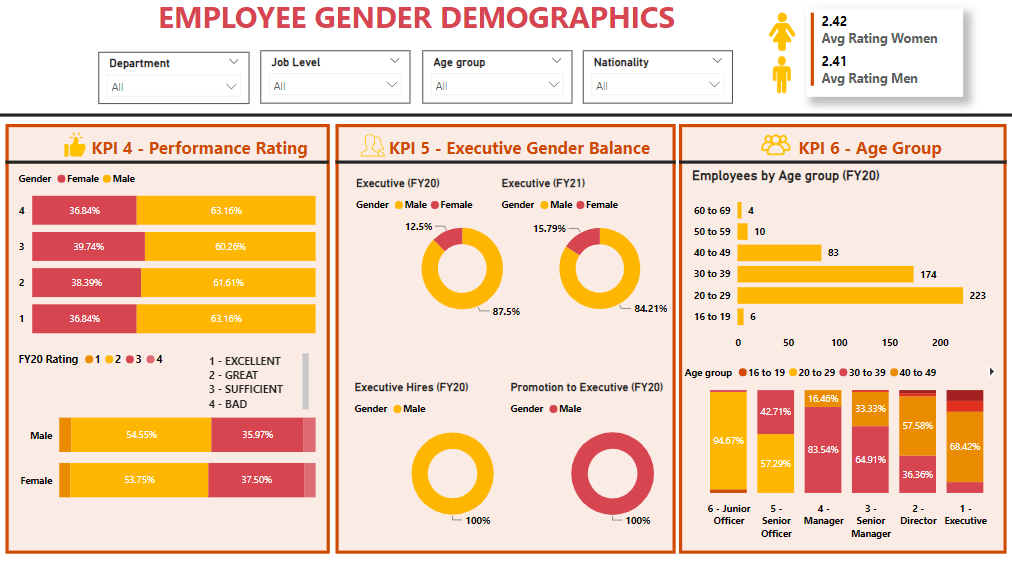

Layout of this report page (visuals, bound fields, positions):
{"tool":"powerbi","page":{"name":"Page 2","canvas":[1280,720],"ordinal":1},"visuals":[{"type":"shape","box":[858.6,165.7,412.9,541.4],"z":0},{"type":"shape","box":[10,167.1,408.6,541.4],"z":1000},{"type":"shape","box":[424.3,165.7,428.6,541.4],"z":2000},{"type":"textbox","box":[147.4,0,759.7,73.7],"z":3000},{"type":"slicer","fields":{"Values":["Pharma Group AG.Last Department in FY20"]},"box":[125.8,75.7,189.9,65.2],"z":5000},{"type":"slicer","fields":{"Values":["Pharma Group AG.Broad region group: nationality 1"]},"box":[737.7,74.5,188.4,66.7],"z":6000},{"type":"slicer","fields":{"Values":["Pharma Group AG.Age group"]},"box":[534.5,74.2,188.4,66.7],"z":7000},{"type":"slicer","fields":{"Values":["Pharma Group AG.Job Level after FY20 promotions"]},"box":[330.1,74.2,188.4,66.7],"z":8000},{"type":"shape","box":[10.1,208.7,407.2,13],"z":9000},{"type":"shape","box":[424.3,208.6,428.6,12.9],"z":10000},{"type":"shape","box":[858.6,208.6,412.9,12.9],"z":11000},{"type":"image","box":[955.7,75.7,62.9,57.1],"z":12000},{"type":"image","box":[955.7,21.4,62.9,58.6],"z":13000},{"type":"textbox","box":[104.3,175.4,300,40.6],"z":14000},{"type":"textbox","box":[487,175.4,352.2,40.6],"z":15000},{"type":"textbox","box":[1002.9,175.7,212.9,40],"z":16000},{"type":"donutChart","title":"Executive (FY21)","fields":{"Category":["Pharma Group AG.Gender"],"Y":["CountNonNull(Pharma Group AG.Employee ID)"],"Series":["Pharma Group AG.Job Level after FY21 promotions"]},"box":[628.6,232.9,257.1,187.1],"z":17000},{"type":"donutChart","title":"Executive (FY20)","fields":{"Category":["Pharma Group AG.Gender"],"Y":["CountNonNull(Pharma Group AG.Employee ID)"],"Series":["Pharma Group AG.Job Level after FY20 promotions"]},"box":[445.7,232.9,277.1,187.1],"z":18000},{"type":"donutChart","title":"Executive Hires (FY20)","fields":{"Category":["Pharma Group AG.Gender","Pharma Group AG.New hire FY20?"],"Series":["Pharma Group AG.Job Level after FY20 promotions"],"Y":["CountNonNull(Pharma Group AG.Employee ID)"]},"box":[443.5,489.9,256.5,189.9],"z":19000},{"type":"donutChart","title":"Promotion to Executive (FY20)","fields":{"Category":["Pharma Group AG.Gender","Pharma Group AG.New hire FY20?","Pharma Group AG.Promotion in FY20?"],"Series":["Pharma Group AG.Job Level after FY20 promotions"],"Y":["CountNonNull(Pharma Group AG.Employee ID)"]},"box":[640.6,489.9,266.7,189.9],"z":20000},{"type":"clusteredBarChart","title":"Employees by Age group (FY20)","fields":{"Category":["Pharma Group AG.Age group"],"Y":["CountNonNull(Pharma Group AG.Employee ID)"]},"box":[868.6,221.4,391.4,238.6],"z":21000},{"type":"hundredPercentStackedColumnChart","fields":{"Series":["Pharma Group AG.Age group"],"Category":["Pharma Group AG.Job Level after FY21 promotions"],"Y":["CountNonNull(Pharma Group AG.Employee ID)"]},"box":[860,458.6,411.4,238.6],"z":22000},{"type":"hundredPercentStackedBarChart","fields":{"Series":["Pharma Group AG.Gender"],"Category":["Pharma Group AG.FY20 Performance Rating"],"Y":["CountNonNull(Pharma Group AG.Employee ID)"]},"box":[20,215.7,384.3,227.1],"z":23000},{"type":"shape","box":[0,144.3,1280,22.9],"z":24000},{"type":"hundredPercentStackedBarChart","fields":{"Category":["Pharma Group AG.Gender"],"Y":["CountNonNull(Pharma Group AG.Employee ID)"],"Series":["Pharma Group AG.FY20 Performance Rating"]},"box":[21.4,442.9,384.3,252.9],"z":25000},{"type":"textbox","box":[261.4,450,135.7,81.4],"z":26000},{"type":"multiRowCard","fields":{"Values":["Pharma Group AG.Avg.Rating Women","Pharma Group AG.Avg.Rating Men"]},"box":[1018.6,21.4,197.1,111.4],"z":27000},{"type":"image","box":[75.7,171.4,42.9,40],"z":28000},{"type":"image","box":[451.4,171.4,40,42.9],"z":29000},{"type":"image","box":[955.7,168.6,47.1,48.6],"z":30000}]}

Visuals, with their boxes in screenshot pixels (x1, y1, x2, y2), scaled from the page's 1280x720 canvas onto the 1012x561 screenshot:
shape: crop(679, 129, 1005, 551)
shape: crop(8, 130, 331, 552)
shape: crop(335, 129, 674, 551)
textbox: crop(117, 0, 717, 57)
slicer - Pharma Group AG.Last Department in FY20: crop(99, 59, 250, 110)
slicer - Pharma Group AG.Broad region group: nationality 1: crop(583, 58, 732, 110)
slicer - Pharma Group AG.Age group: crop(423, 58, 572, 110)
slicer - Pharma Group AG.Job Level after FY20 promotions: crop(261, 58, 410, 110)
shape: crop(8, 163, 330, 173)
shape: crop(335, 163, 674, 173)
shape: crop(679, 163, 1005, 173)
image: crop(756, 59, 805, 103)
image: crop(756, 17, 805, 62)
textbox: crop(82, 137, 320, 168)
textbox: crop(385, 137, 663, 168)
textbox: crop(793, 137, 961, 168)
"Executive (FY21)" donutChart: crop(497, 181, 700, 327)
"Executive (FY20)" donutChart: crop(352, 181, 571, 327)
"Executive Hires (FY20)" donutChart: crop(351, 382, 553, 530)
"Promotion to Executive (FY20)" donutChart: crop(506, 382, 717, 530)
"Employees by Age group (FY20)" clusteredBarChart: crop(687, 173, 996, 358)
hundredPercentStackedColumnChart - Pharma Group AG.Age group x Pharma Group AG.Job Level after FY21 promotions: crop(680, 357, 1005, 543)
hundredPercentStackedBarChart - Pharma Group AG.Gender x Pharma Group AG.FY20 Performance Rating: crop(16, 168, 320, 345)
shape: crop(0, 112, 1011, 130)
hundredPercentStackedBarChart - Pharma Group AG.Gender x CountNonNull(Pharma Group AG.Employee ID): crop(17, 345, 321, 542)
textbox: crop(207, 351, 314, 414)
multiRowCard - Pharma Group AG.Avg.Rating Women x Pharma Group AG.Avg.Rating Men: crop(805, 17, 961, 103)
image: crop(60, 134, 94, 165)
image: crop(357, 134, 389, 167)
image: crop(756, 131, 793, 169)
